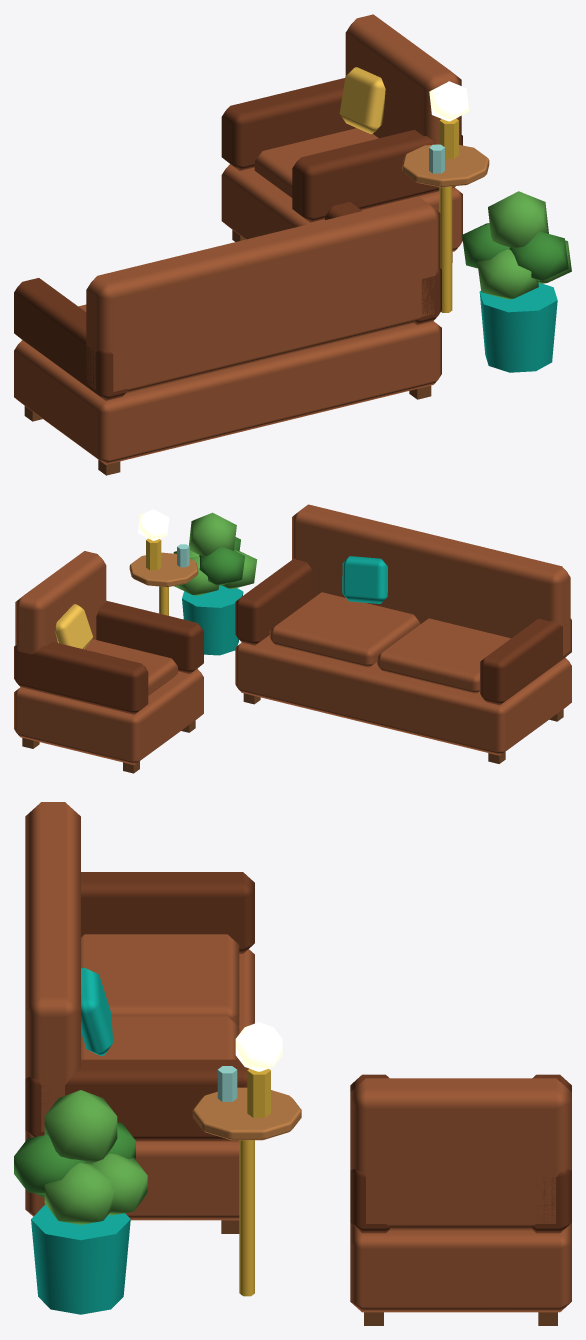
File: station_special_ausstattung_3_3.glb
3 views of the same model, one above another, from view 1: azimuth 30°, elevation 25°; view 2: azimuth 150°, elevation 25°; view 3: azimuth 270°, elevation 25° (orthographic). The views are drawn at different scales.
Visible parts, largest first — view 1: station_special_ausstattung_3_3; view 2: station_special_ausstattung_3_3; view 3: station_special_ausstattung_3_3.
Boxes of the visible parts, left/top/right/bottom form: station_special_ausstattung_3_3: left=14, top=14, right=571, bottom=475; station_special_ausstattung_3_3: left=14, top=504, right=571, bottom=773; station_special_ausstattung_3_3: left=14, top=802, right=571, bottom=1325.
Bounding box in the file's own units: 1.79 × 0.77 × 1.41.
